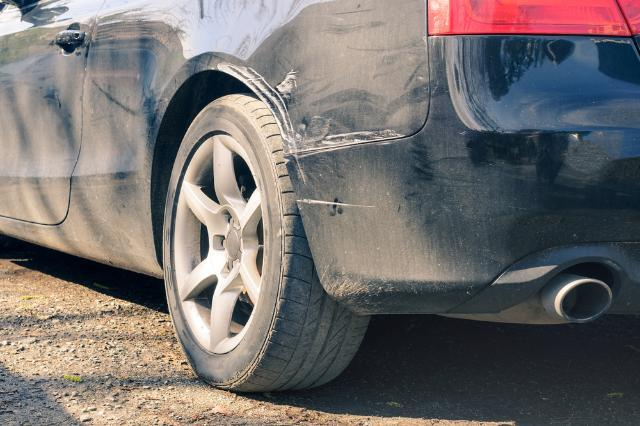scratch: (216, 62, 408, 156), (293, 197, 377, 212)
